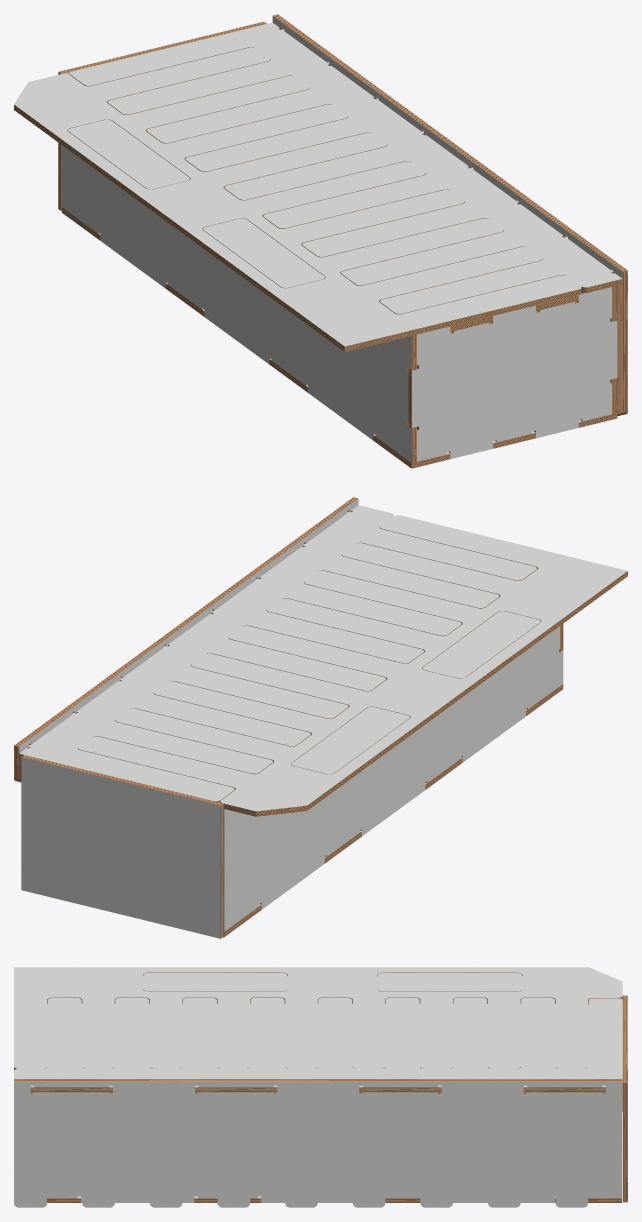
3 renders of one model, top to bottom at view 1: azimuth 30°, elevation 25°; view 2: azimuth 150°, elevation 25°; view 3: azimuth 270°, elevation 25°, orthographic. The views are drawn at different scales.
Parts seen in each view (by area): view 1: Fixed Bed (×3), Open_Bed, Back, End_RH, Cap Side (×2), DF_1, Rail; view 2: Fixed Bed (×2), Open_Bed, DF_1, End_RH, Cap Side (×2); view 3: Fixed Bed (×2), Open_Bed, End_LH, Cap Side (×2), Top, DF_1.
Part boxes in pixels (bbox=[...]): Fixed Bed (×3): bbox=[14, 14, 627, 416]; Open_Bed: bbox=[69, 22, 622, 314]; Back: bbox=[408, 287, 617, 461]; End_RH: bbox=[62, 145, 416, 462]; Cap Side (×2): bbox=[68, 119, 324, 288]; DF_1: bbox=[58, 21, 266, 211]; Rail: bbox=[373, 413, 617, 468]; Fixed Bed (×2): bbox=[14, 497, 627, 816]; Open_Bed: bbox=[19, 505, 536, 802]; DF_1: bbox=[21, 755, 223, 938]; End_RH: bbox=[223, 626, 563, 931]; Cap Side (×2): bbox=[291, 611, 540, 774]; Fixed Bed (×2): bbox=[14, 967, 622, 1207]; Open_Bed: bbox=[14, 998, 622, 1092]; End_LH: bbox=[47, 1113, 621, 1202]; Cap Side (×2): bbox=[143, 973, 521, 991]; Top: bbox=[47, 1004, 588, 1067]; DF_1: bbox=[622, 995, 627, 1202].
Size of the model in its own units: 0.848 by 0.416 by 1.83.
Materials: 5 (3 with a texture image).
